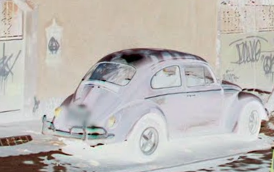car: (42, 48, 266, 158)
